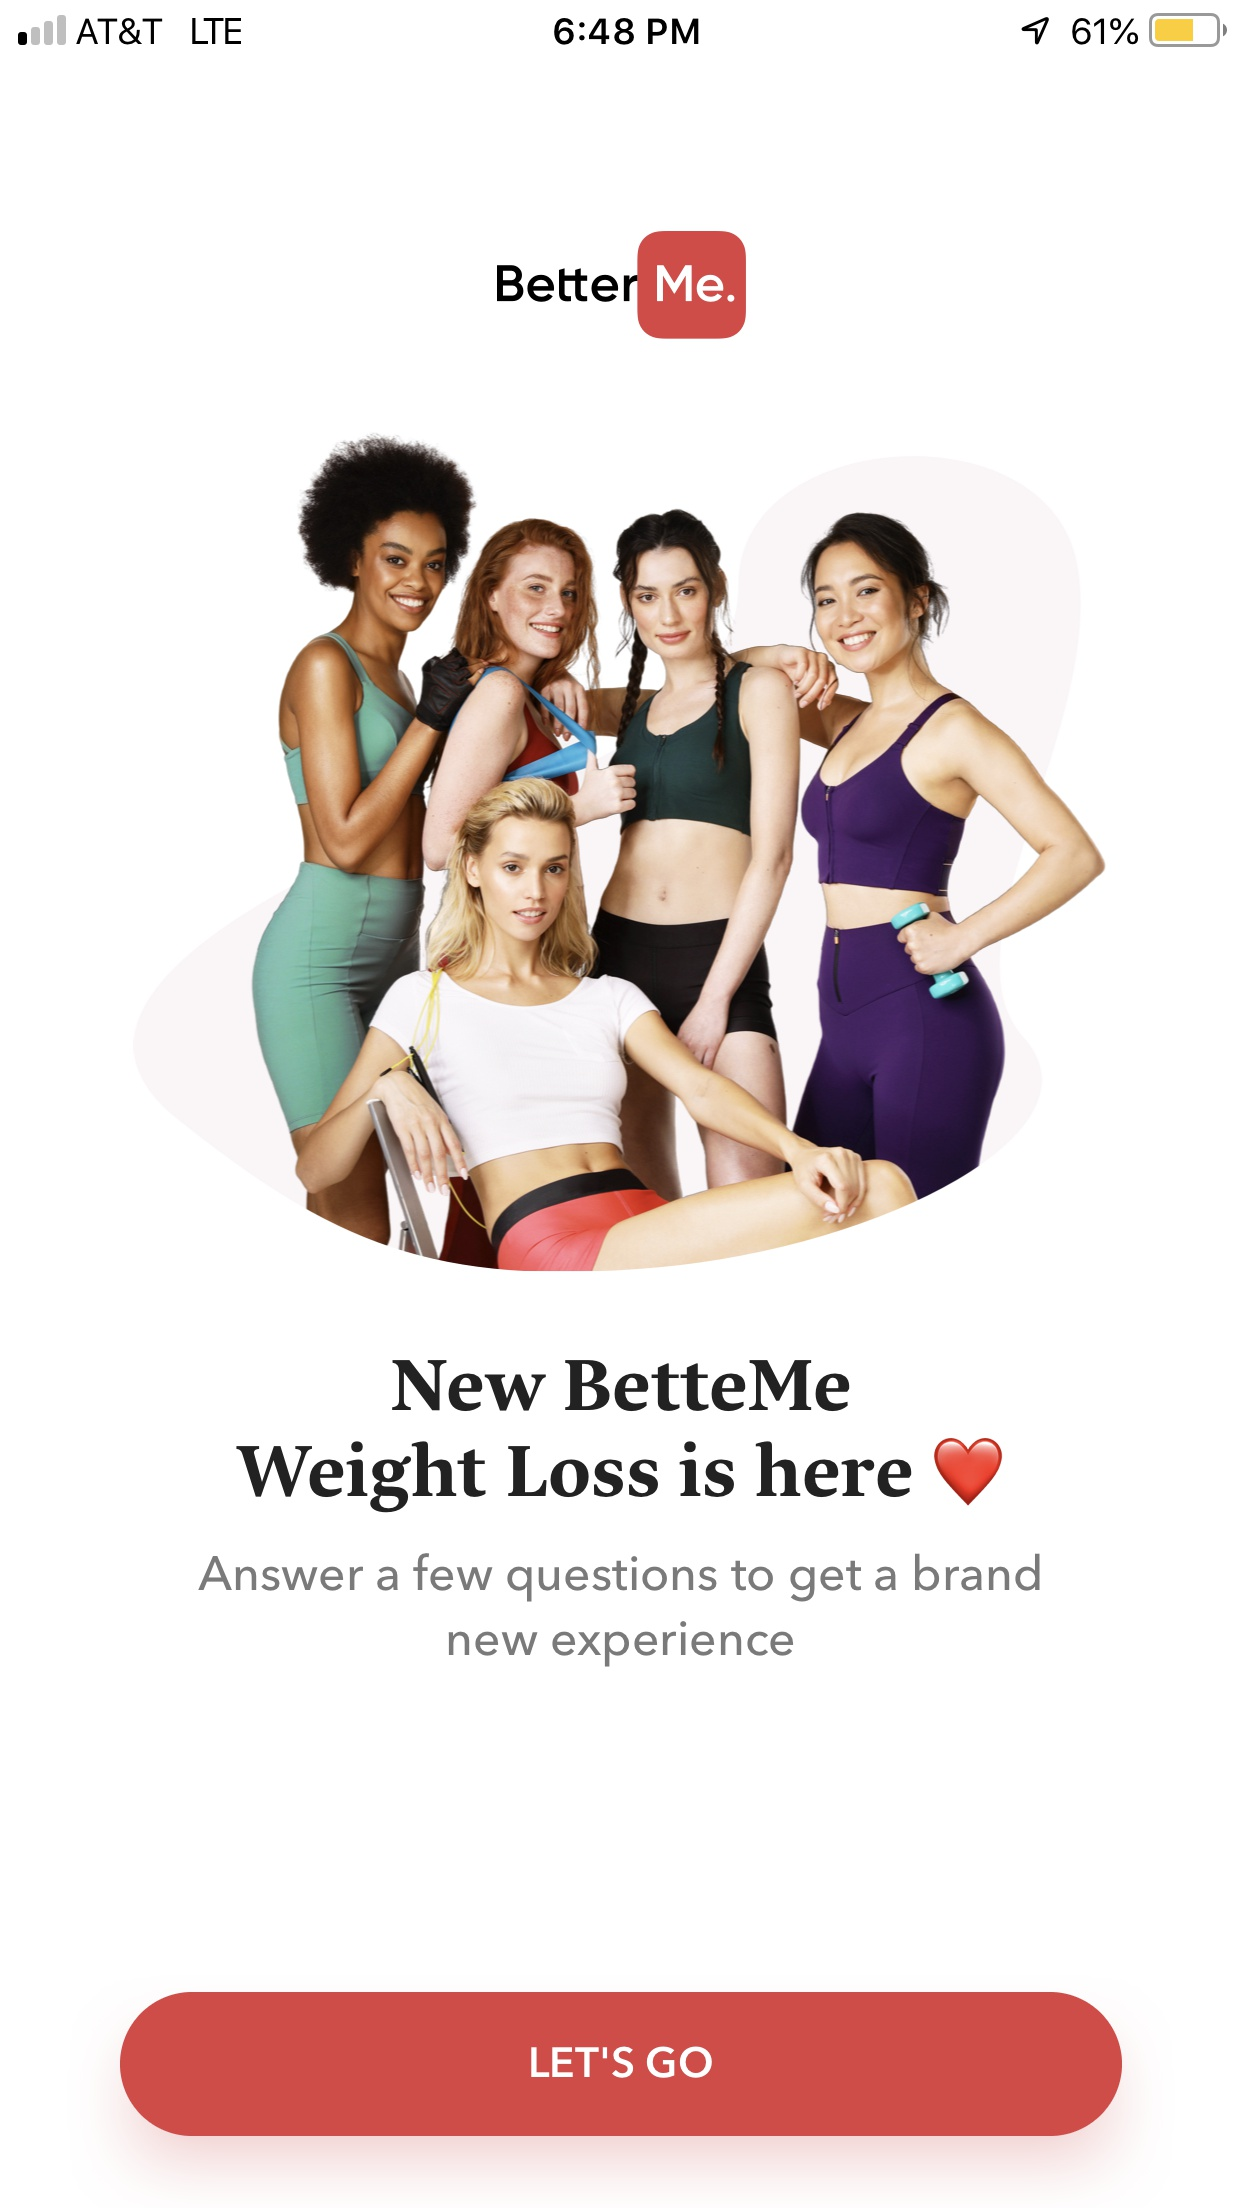Icon: (933, 1438, 1002, 1507)
Image: (132, 434, 1107, 1274), (497, 231, 748, 340)
Text: (199, 1551, 1040, 1667), (237, 1441, 911, 1513), (391, 1359, 851, 1412)
TextButton: (120, 1991, 1124, 2137)
UpperTaskBar: (2, 2, 1242, 49)
